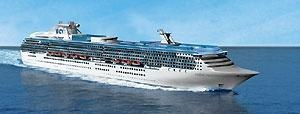youlun: (11, 16, 267, 94)
